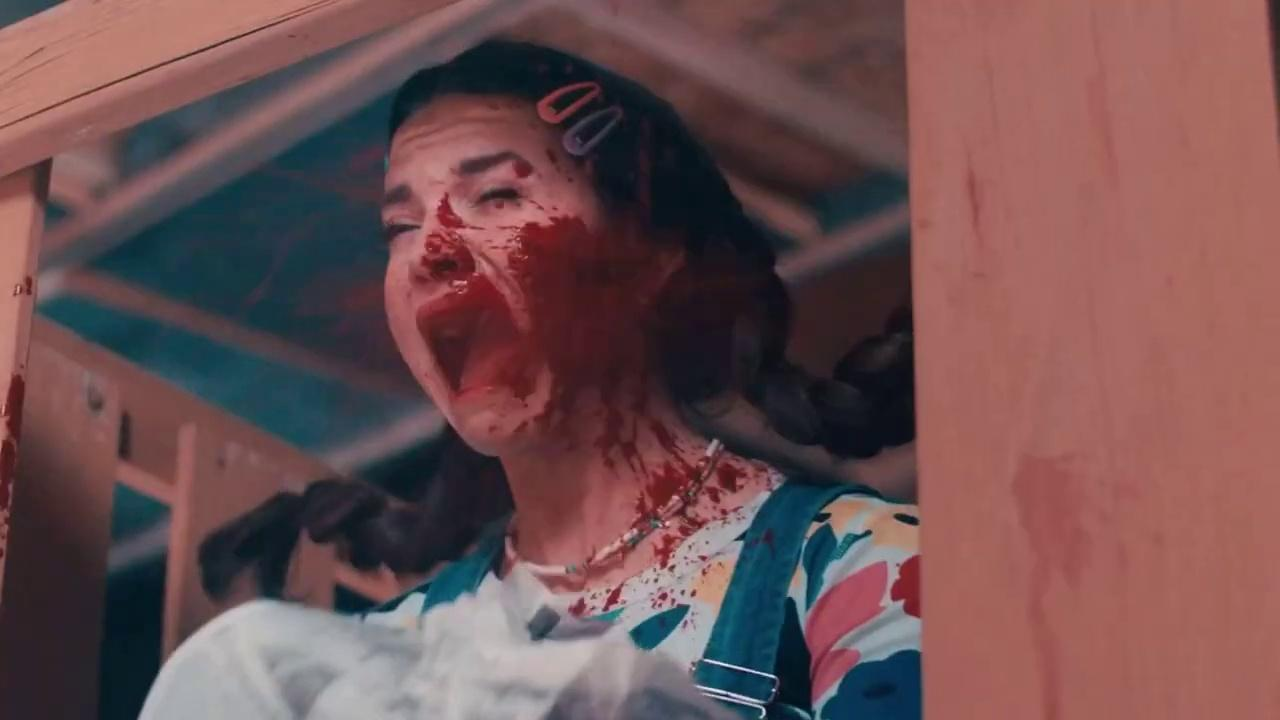Fire: (249, 44, 838, 640), (1002, 452, 1093, 720), (0, 373, 23, 594), (11, 275, 32, 294), (19, 363, 25, 369)
